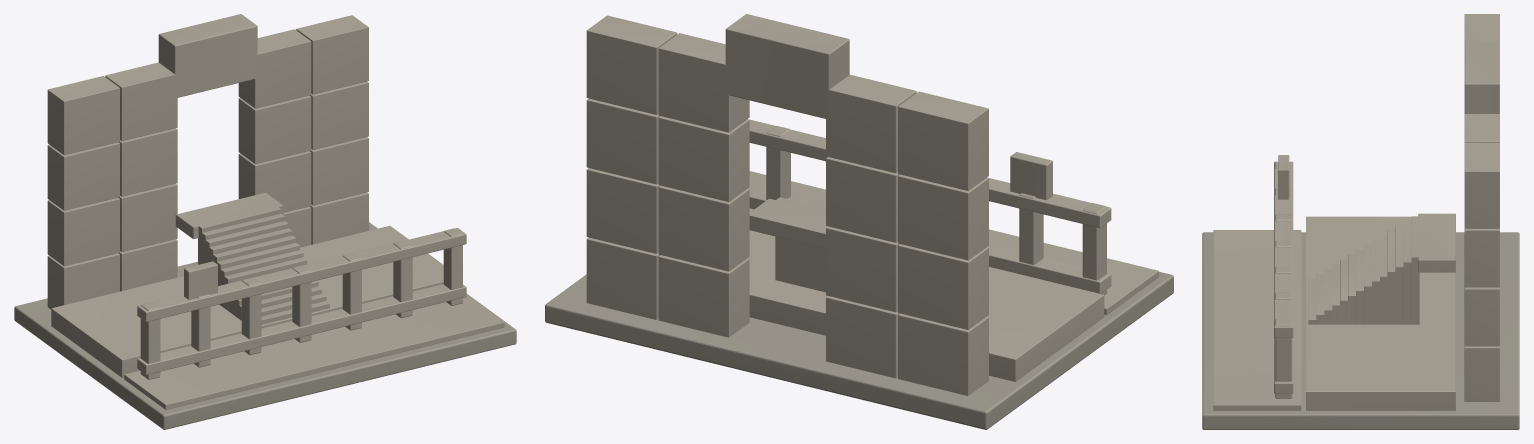
The model's file is herod-boundary.glb.
3 views of the same model, side by side, from view 1: azimuth 30°, elevation 25°; view 2: azimuth 150°, elevation 25°; view 3: azimuth 270°, elevation 25° (orthographic). The views are drawn at different scales.
Visible parts, largest first — view 1: herod-boundary-herod-pale-limestone, herod-boundary-herod-pale-limestone.001, herod-boundary-modern-diagram-base; view 2: herod-boundary-herod-pale-limestone, herod-boundary-modern-diagram-base, herod-boundary-herod-pale-limestone.001; view 3: herod-boundary-herod-pale-limestone, herod-boundary-modern-diagram-base, herod-boundary-herod-pale-limestone.001.
Part boxes in pixels (box(x1,y1,x2,y2)): herod-boundary-herod-pale-limestone: box(47, 14, 504, 409); herod-boundary-herod-pale-limestone.001: box(137, 228, 466, 379); herod-boundary-modern-diagram-base: box(14, 222, 516, 429); herod-boundary-herod-pale-limestone: box(586, 14, 1158, 395); herod-boundary-modern-diagram-base: box(545, 271, 1173, 429); herod-boundary-herod-pale-limestone.001: box(748, 119, 1111, 295); herod-boundary-herod-pale-limestone: box(1213, 14, 1499, 410); herod-boundary-modern-diagram-base: box(1202, 232, 1519, 429); herod-boundary-herod-pale-limestone.001: box(1274, 155, 1293, 398).
Size of the model in its own units: 0.98 by 0.692 by 0.72.
